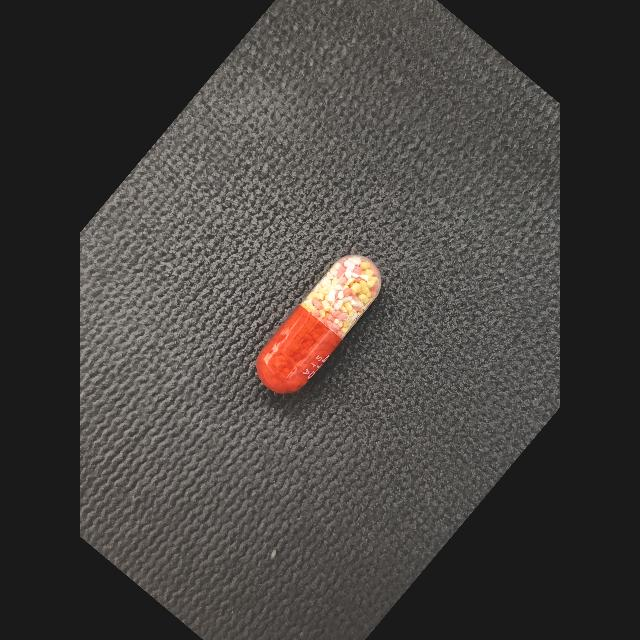Intact Capsule: (256, 255, 382, 393)
